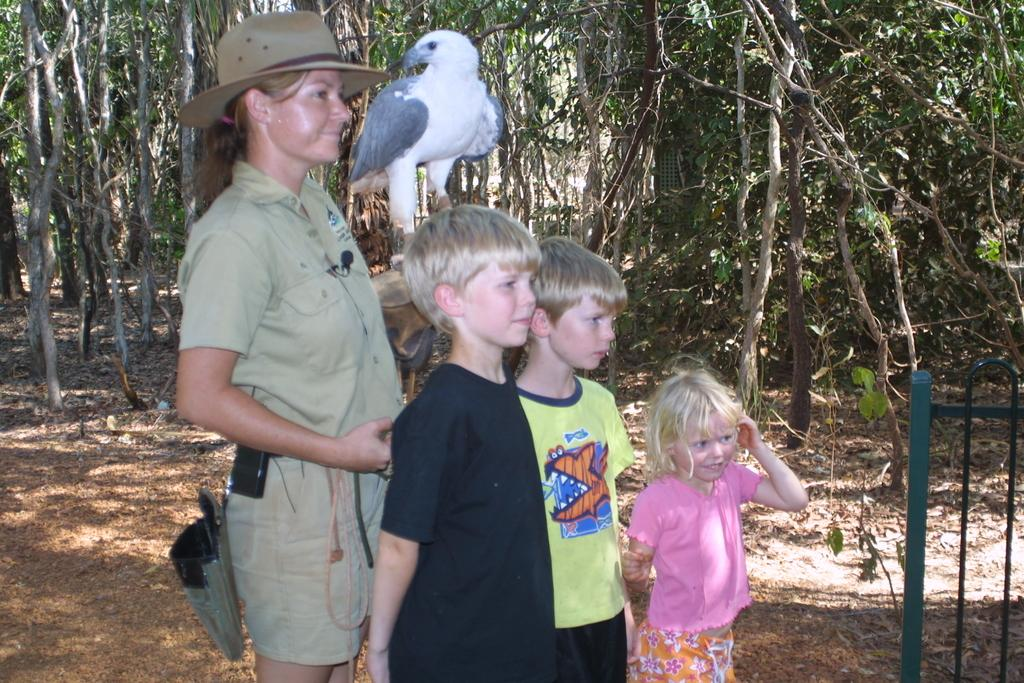Hat: (177, 8, 387, 132)
